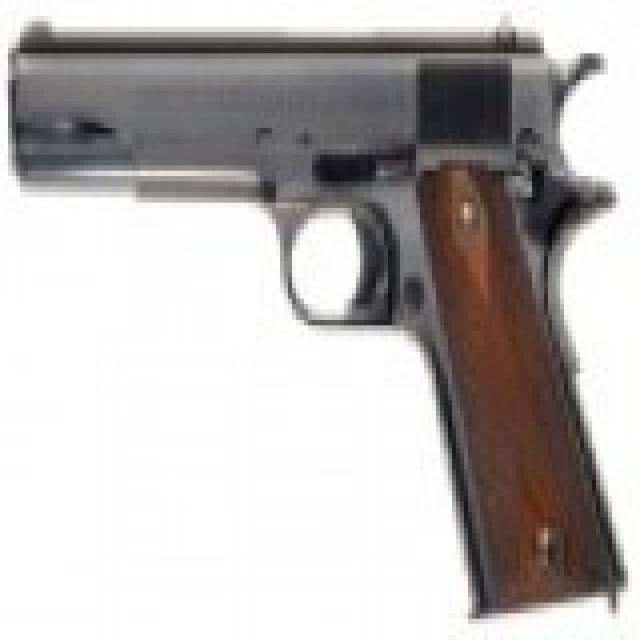Gun: (12, 12, 630, 610)
